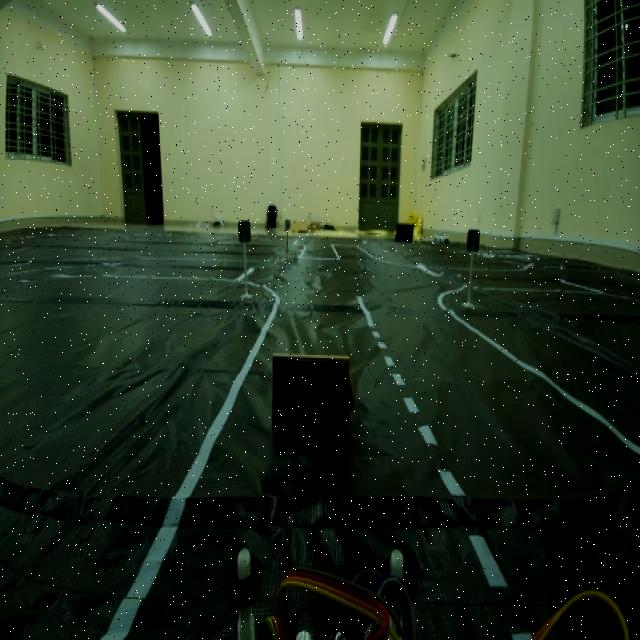roadblock: (268, 342, 363, 458)
